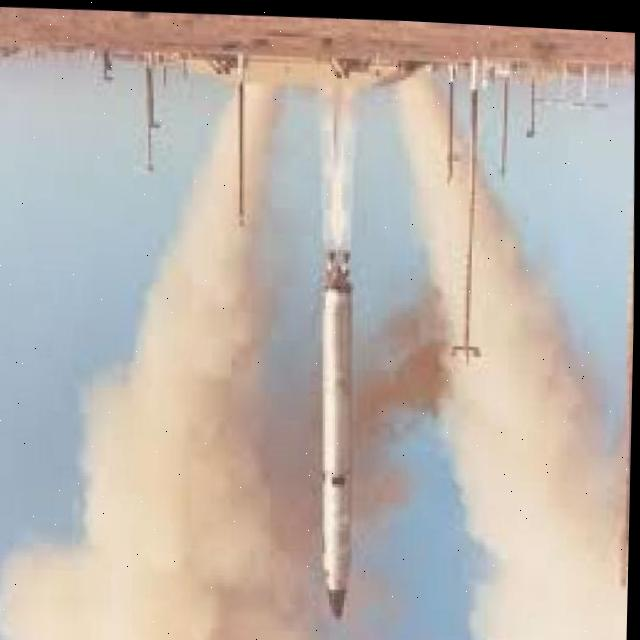missile: (304, 240, 368, 618)
